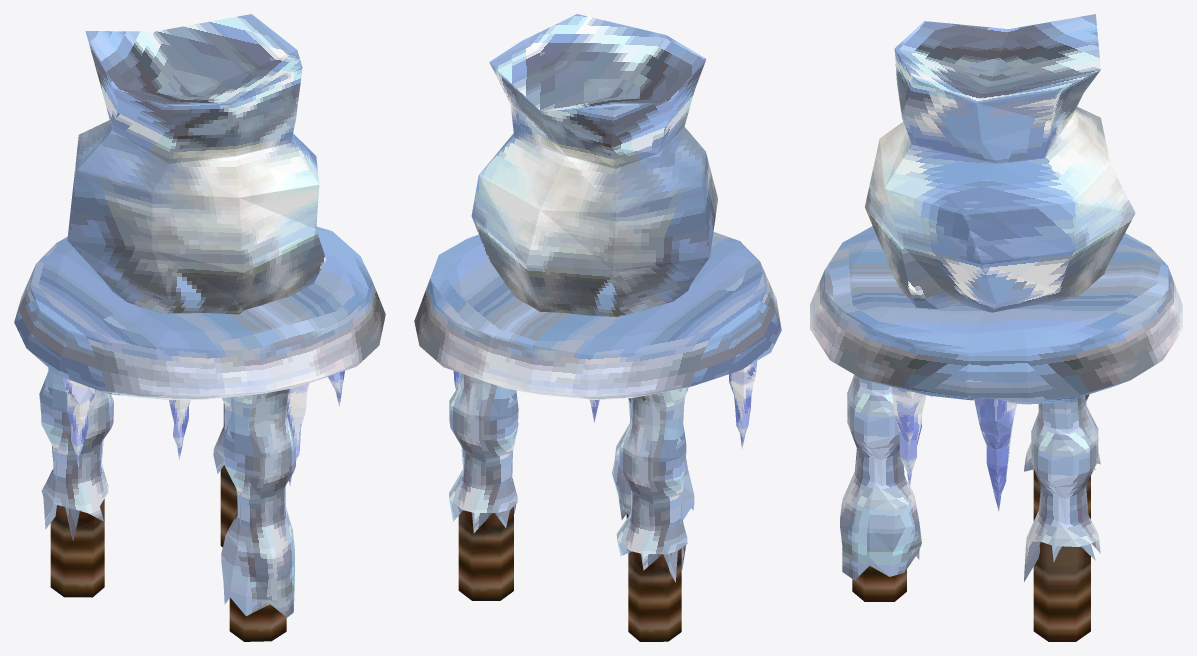
File: okori.glb
3 renders of one model, left to right at view 1: azimuth 30°, elevation 25°; view 2: azimuth 150°, elevation 25°; view 3: azimuth 270°, elevation 25°, orthographic. The views are drawn at different scales.
Parts seen in each view (by area): view 1: okori; view 2: okori; view 3: okori.
Part boxes in pixels (x1=…): okori: x1=14, y1=14, x2=385, y2=641; okori: x1=414, y1=14, x2=781, y2=641; okori: x1=810, y1=14, x2=1182, y2=641.
Size of the model in its own units: 150 by 242 by 150.
6 materials, 5 textured.
